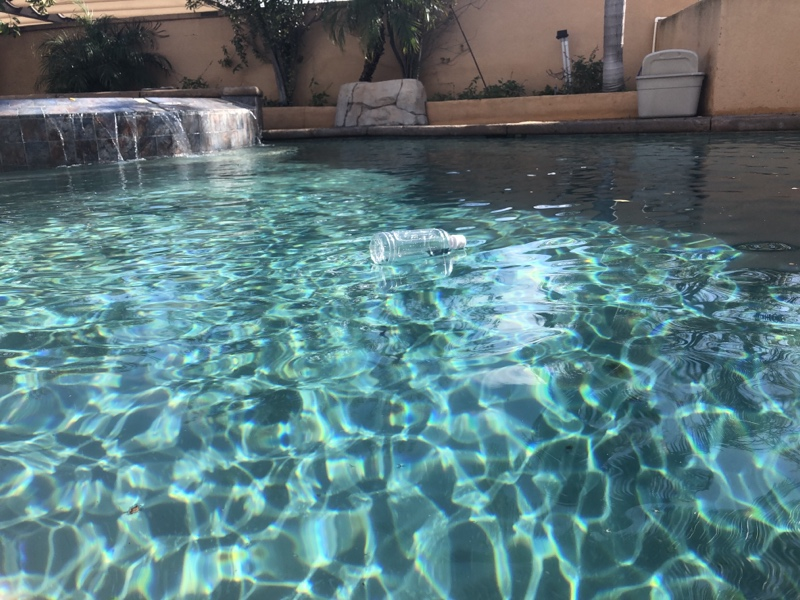Plastic Bottle: (365, 224, 469, 268)
